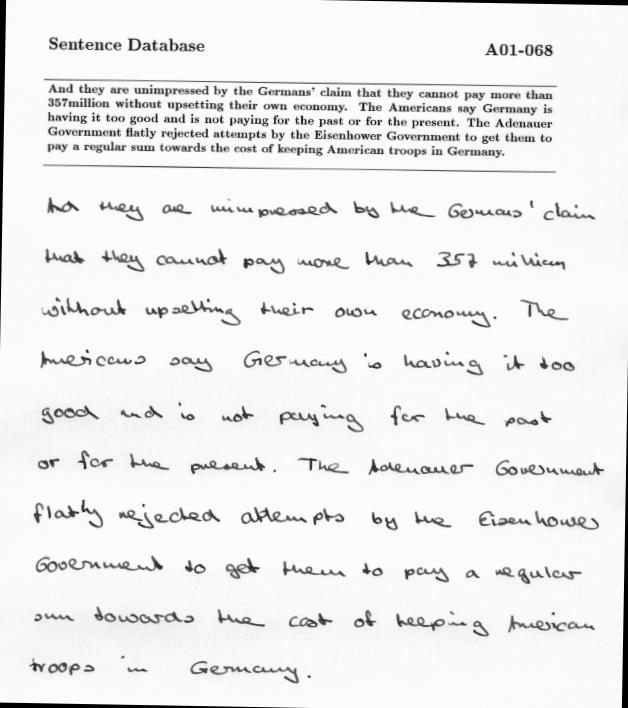text: (30, 495, 604, 542), (37, 288, 572, 336), (28, 600, 599, 644), (42, 188, 600, 233), (41, 240, 571, 284), (34, 446, 608, 485), (37, 395, 556, 437), (37, 344, 579, 384), (31, 550, 585, 589), (44, 122, 557, 148), (46, 107, 555, 133), (45, 80, 556, 104), (47, 94, 554, 118), (47, 138, 508, 164), (26, 651, 314, 686), (47, 34, 208, 57), (484, 41, 554, 60)
